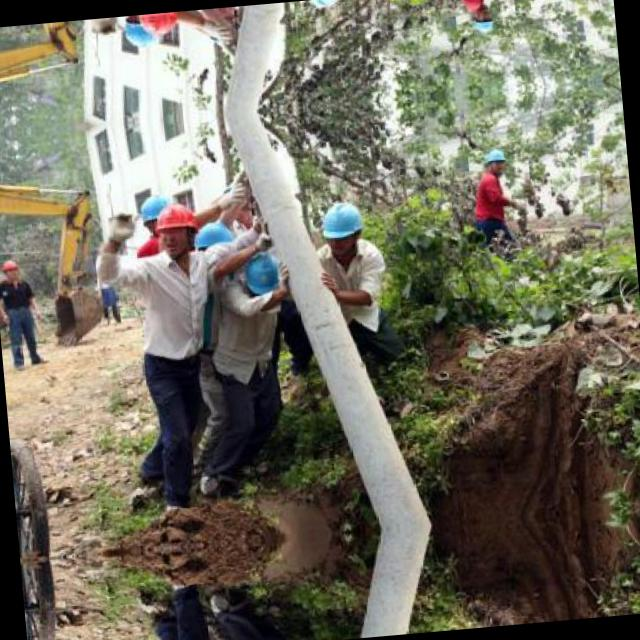helmet: (316, 196, 366, 258), (148, 193, 196, 256), (234, 248, 286, 303), (133, 11, 180, 46), (135, 192, 168, 236), (119, 14, 152, 51), (480, 140, 508, 172), (469, 8, 496, 41), (298, 0, 347, 14), (0, 255, 23, 282)
